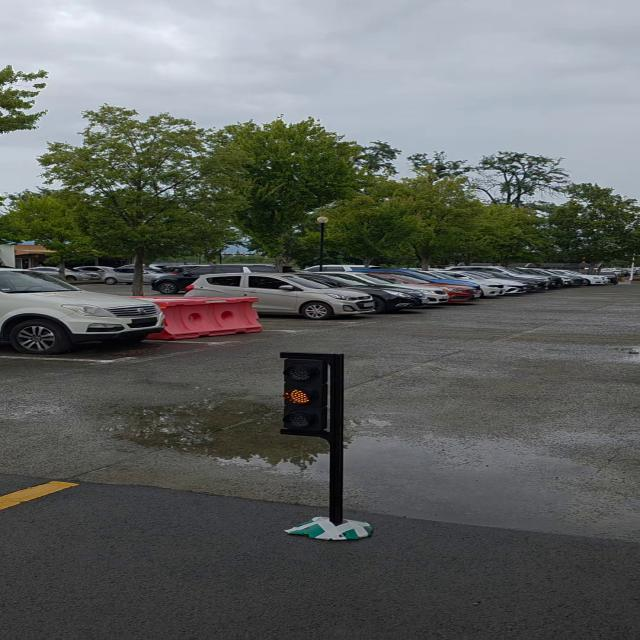yellow: (282, 358, 334, 436)
